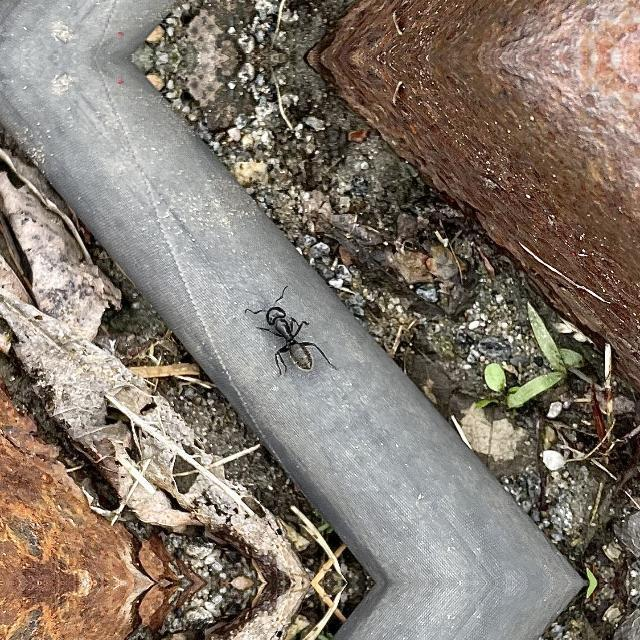Camponotus: (246, 284, 330, 378)
